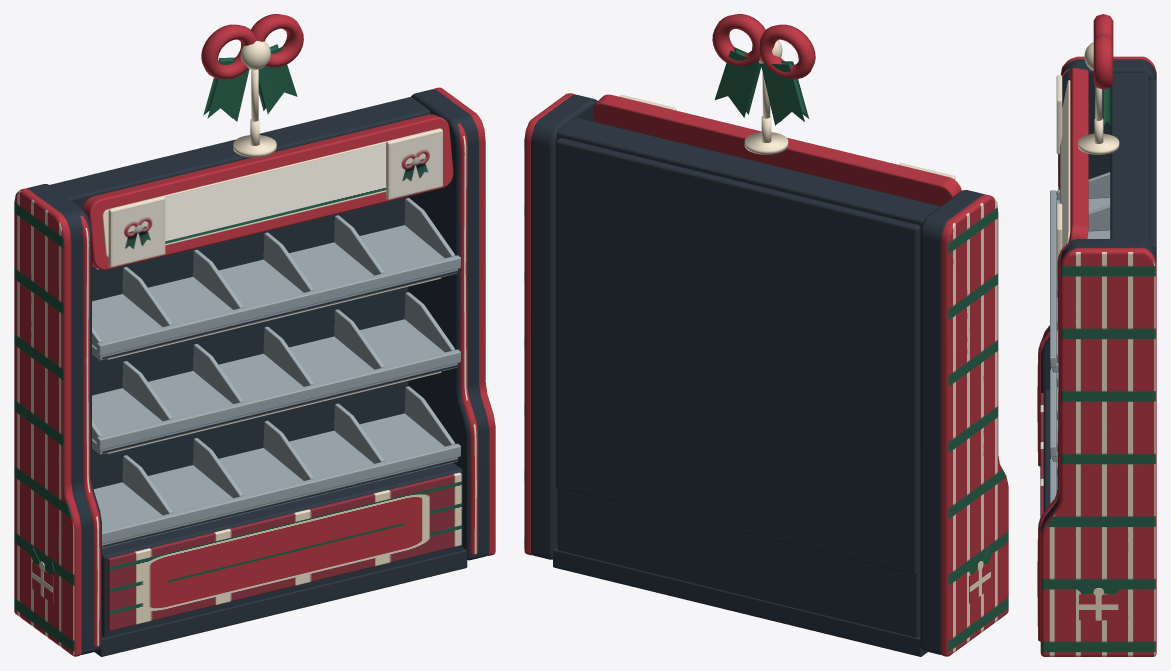
The model's file is TH_WINTER_HOLIDAYS.fbx.
The picture shows the model from 3 angles, left to right: view 1: azimuth 30°, elevation 25°; view 2: azimuth 150°, elevation 25°; view 3: azimuth 270°, elevation 25°; orthographic projection. The views are drawn at different scales.
Parts seen in each view (by area): view 1: BaseFrontInset, Left_PaintedPanel, BackPanel.001, Right_StructuralWall, Tray_02, Tray_01, Tray_03, HeaderFace, HeaderBorder, TopCrossRail, Left_StructuralWall, ClosedSolidBase (+37 smaller); view 2: BackPanel.001, Left_PaintedPanel, ClosedSolidBase, Right_StructuralWall, HeaderBorder, Left_StructuralWall, TopCrossRail, LowerPlinth, Right_PaintedPanel, Gift bow loop, Satin ribbon tail, Satin ribbon tail.001 (+2 smaller); view 3: Right_PaintedPanel, TopCrossRail, HeaderBorder, Left_StructuralWall, HeaderFace, BackPanel.001, FrontLip_01, RightHousing, Gift bow loop.001, Right_StructuralWall, ClosedSolidBase, Relief.015 (+18 smaller).
Boxes of the visible parts, x1,y1,x2,y2 form: BaseFrontInset: (107, 472, 461, 630); Left_PaintedPanel: (14, 188, 81, 656); BackPanel.001: (92, 196, 408, 488); Right_StructuralWall: (408, 89, 489, 560); Tray_02: (92, 319, 457, 454); Tray_01: (92, 225, 457, 360); Tray_03: (93, 413, 457, 548); HeaderFace: (102, 131, 426, 257); HeaderBorder: (82, 114, 453, 270); TopCrossRail: (49, 97, 430, 208); Left_StructuralWall: (27, 184, 101, 654); ClosedSolidBase: (102, 463, 462, 637); BackPanel.001: (556, 138, 920, 575); Left_PaintedPanel: (941, 194, 1008, 656); ClosedSolidBase: (557, 489, 920, 637); Right_StructuralWall: (531, 94, 597, 559); HeaderBorder: (592, 94, 961, 206); Left_StructuralWall: (920, 190, 985, 654); TopCrossRail: (557, 117, 939, 231); LowerPlinth: (553, 547, 927, 656); Right_PaintedPanel: (524, 93, 576, 555); Gift bow loop: (759, 24, 815, 79); Satin ribbon tail: (760, 61, 808, 125); Satin ribbon tail.001: (714, 47, 761, 117); Right_PaintedPanel: (1040, 248, 1156, 656); TopCrossRail: (1110, 73, 1148, 241); HeaderBorder: (1068, 67, 1088, 242); Left_StructuralWall: (1041, 59, 1156, 392); HeaderFace: (1060, 80, 1070, 248); BackPanel.001: (1149, 79, 1156, 253); FrontLip_01: (1050, 190, 1056, 367); RightHousing: (1037, 243, 1069, 641); Gift bow loop.001: (1093, 34, 1113, 89); Right_StructuralWall: (1040, 239, 1156, 533); ClosedSolidBase: (1043, 389, 1049, 512); Relief.015: (1079, 594, 1118, 620).
Size of the model in its own units: 3.62 by 4.62 by 0.9273.
